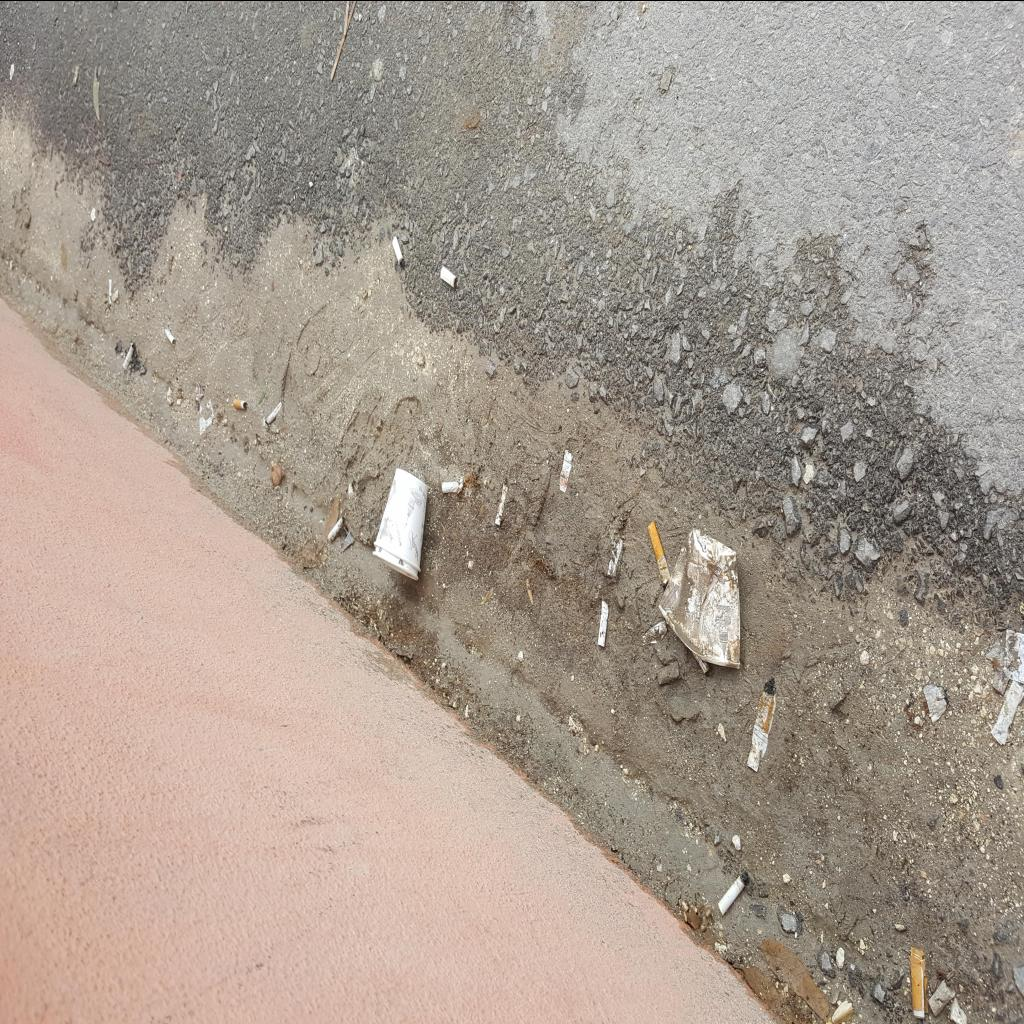Cigarette: (747, 676, 775, 771), (991, 678, 1023, 744), (648, 520, 670, 592), (718, 872, 748, 914), (328, 513, 346, 543), (598, 600, 608, 646), (440, 266, 458, 288), (122, 342, 136, 370), (266, 400, 282, 424), (392, 236, 404, 266), (442, 480, 462, 492), (164, 326, 176, 344), (232, 397, 248, 410)
Paper cup: (658, 526, 740, 668), (375, 468, 428, 570), (373, 546, 419, 580)
Unlabeled litter: (1004, 628, 1023, 682), (923, 684, 948, 720), (642, 620, 668, 646), (494, 480, 508, 526), (560, 448, 574, 492), (607, 538, 623, 574), (108, 279, 112, 303)
